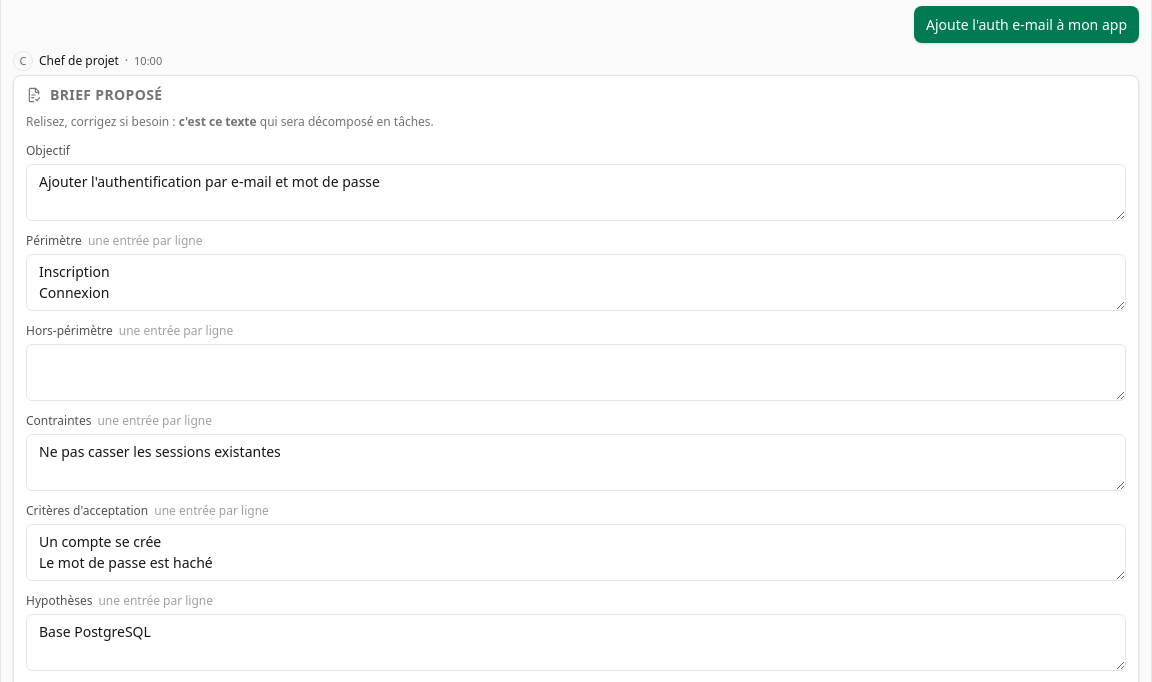
Test: critère 1 — le brief se lit, se corrige et se tranche dans le fil › bloque l'approbation d'un brief que le schéma refuserait, en le disant
The width and height of the screenshot is (1152, 682).
Clear the text box labelled "Critères d'acceptation". click: [576, 552]
box: [26,524,1126,581]
(page scrolled)
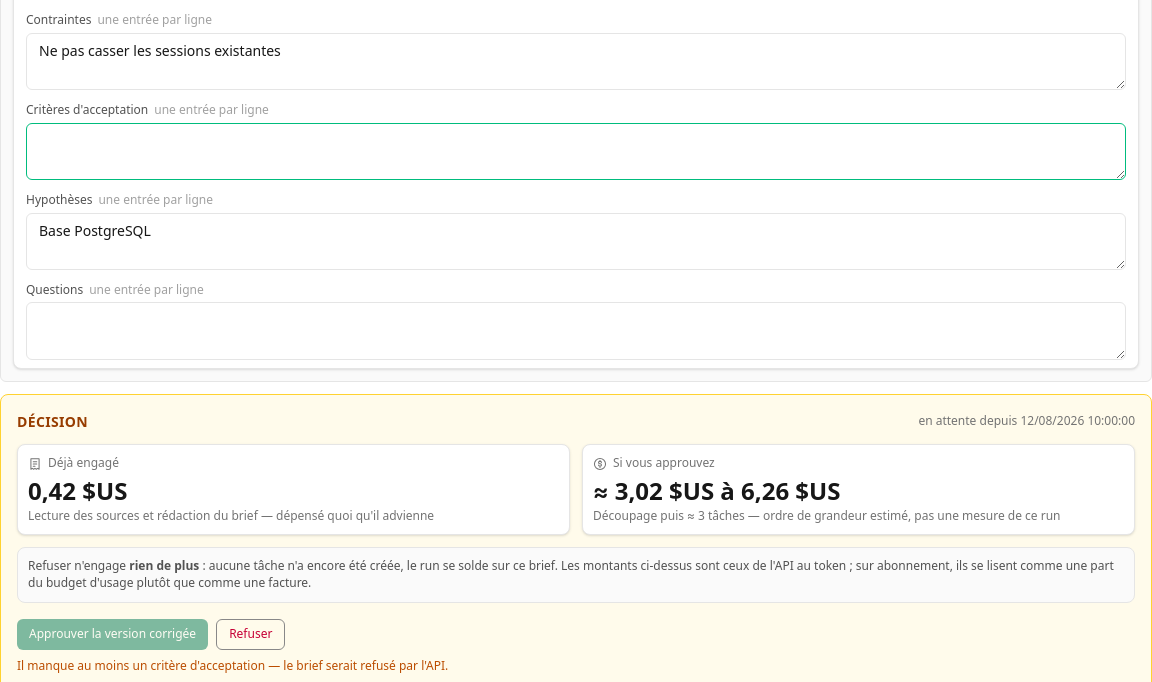
Expected: the button "Approuver la version corrigée" is disabled, [17,619,208,650]
Expected: the text "au moins un critère d'acceptation" is shown, [77,657,265,674]
